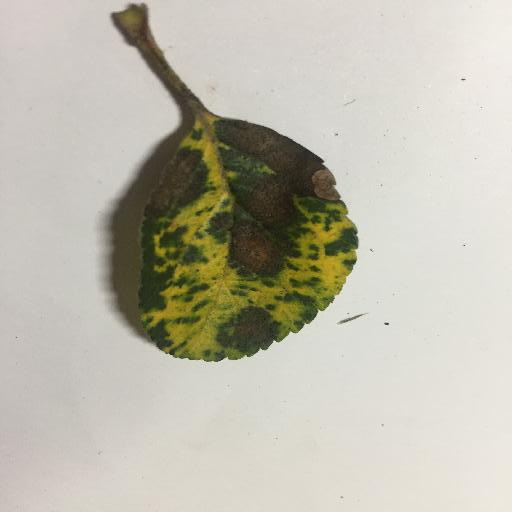Brown_Spot: (127, 136, 348, 280), (217, 308, 270, 351)
